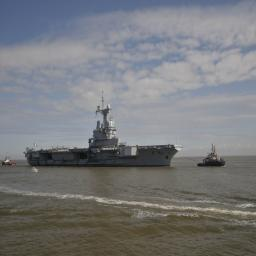Portanaves: (24, 86, 187, 170)
